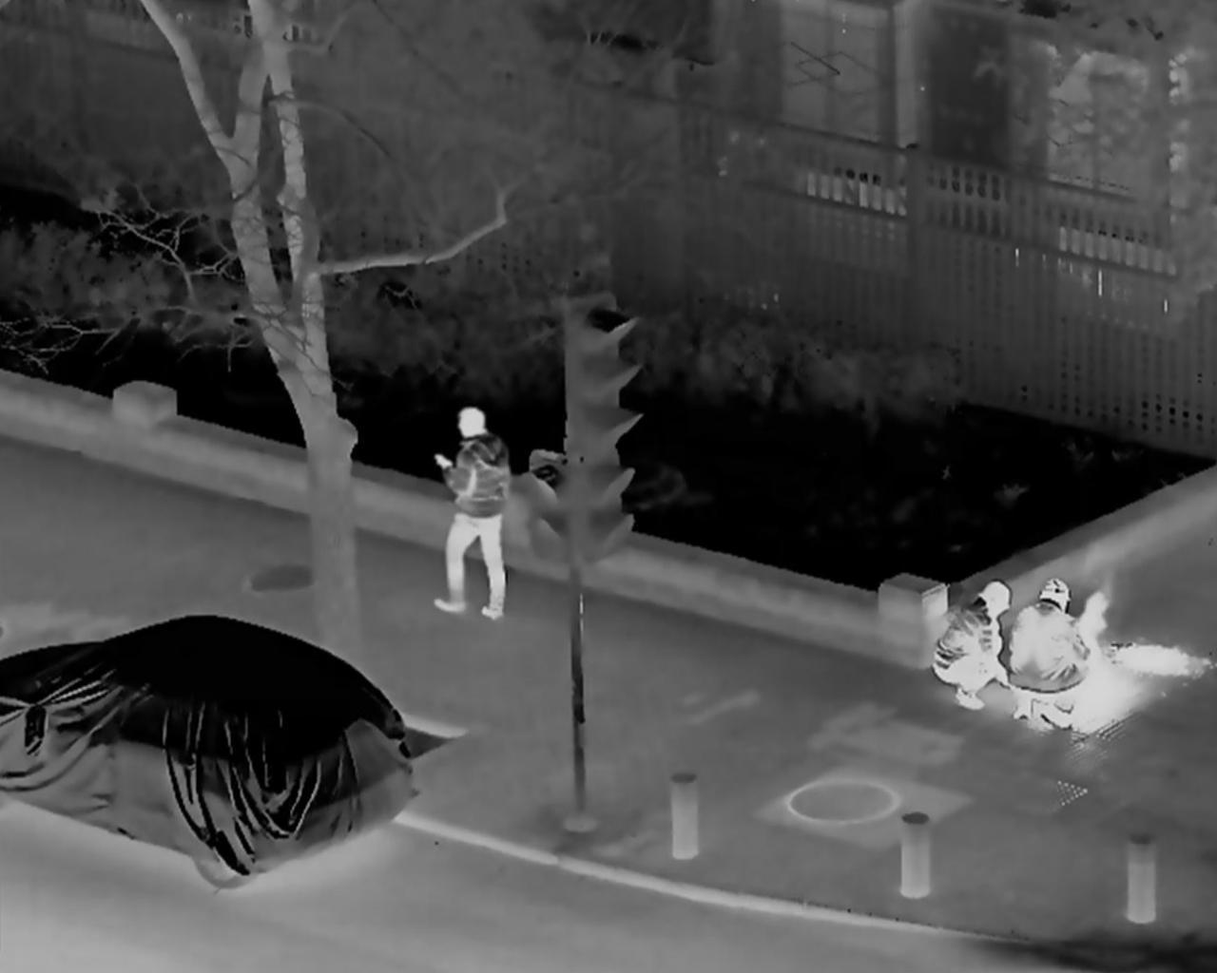person: (432, 407, 514, 620), (1005, 579, 1091, 730), (930, 581, 1010, 709)
